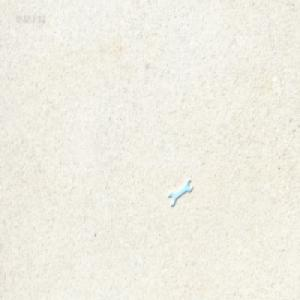Wrench: (168, 178, 192, 206)
